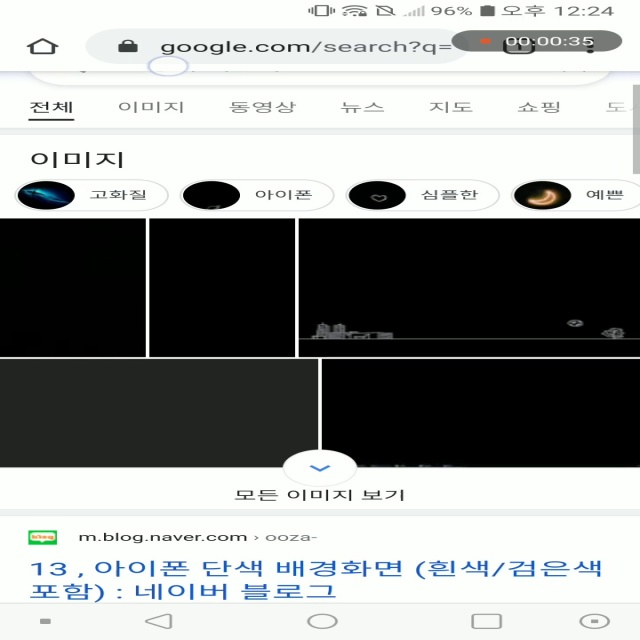Cursor: (147, 55, 192, 77)
